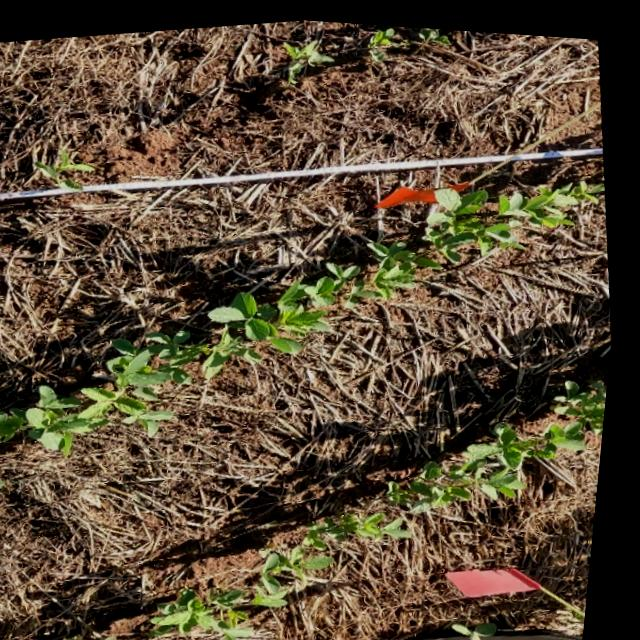soy_plant: (0, 172, 607, 451), (164, 505, 420, 640), (396, 373, 614, 506), (38, 149, 98, 188), (284, 34, 335, 78), (368, 20, 416, 56)
